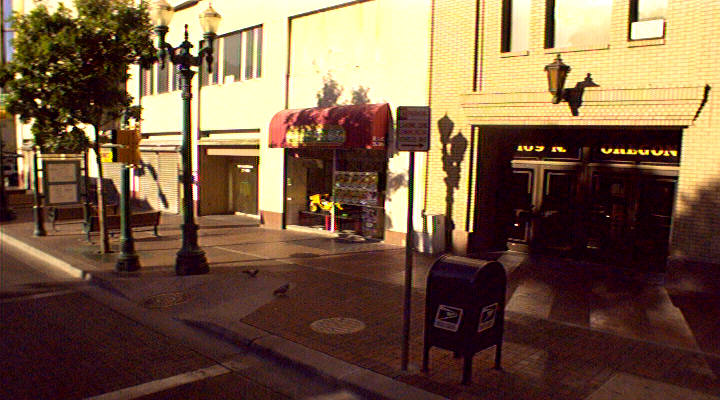Ramp: (89, 264, 317, 343)
